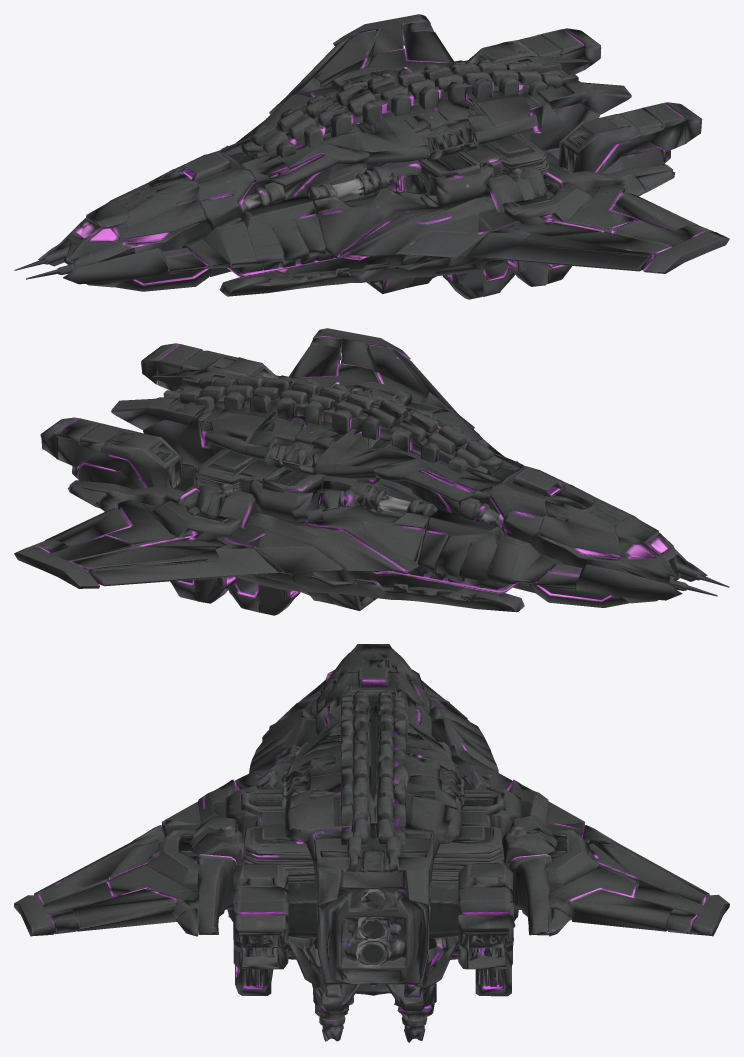
File: sky_carrier_hull.glb
The picture shows the model from 3 angles, top to bottom: view 1: azimuth 30°, elevation 25°; view 2: azimuth 150°, elevation 25°; view 3: azimuth 270°, elevation 25°; orthographic projection. The views are drawn at different scales.
Parts seen in each view (by area): view 1: sky_carrier_hull; view 2: sky_carrier_hull; view 3: sky_carrier_hull.
Boxes of the visible parts, bbox=[...] form: sky_carrier_hull: bbox=[14, 14, 729, 299]; sky_carrier_hull: bbox=[14, 328, 729, 615]; sky_carrier_hull: bbox=[14, 644, 729, 1042].
Size of the model in its own units: 2.35 by 0.7805 by 2.11.
Materials: 1 (1 with a texture image).
